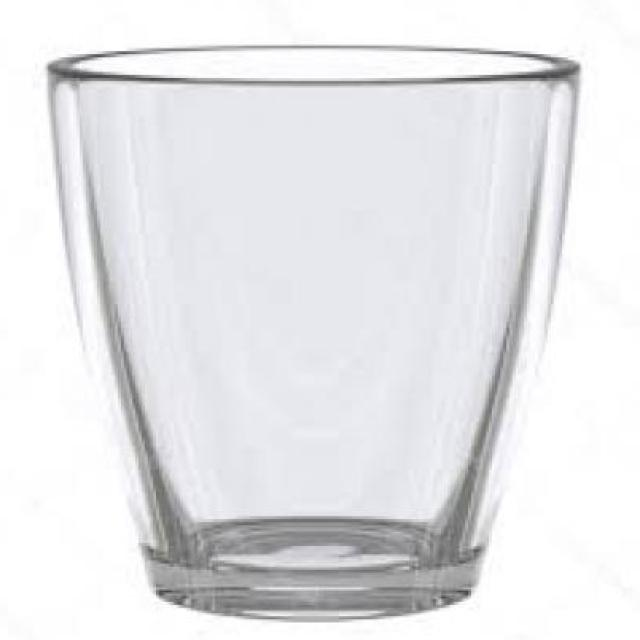kaca: (51, 52, 586, 614)
